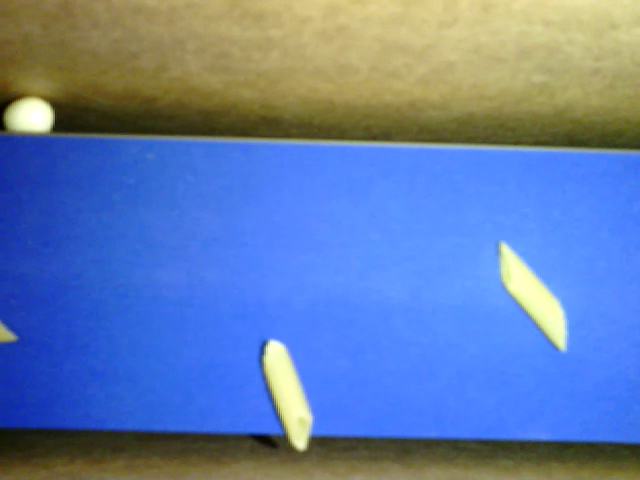penne: (498, 242, 567, 351), (261, 338, 314, 451)
